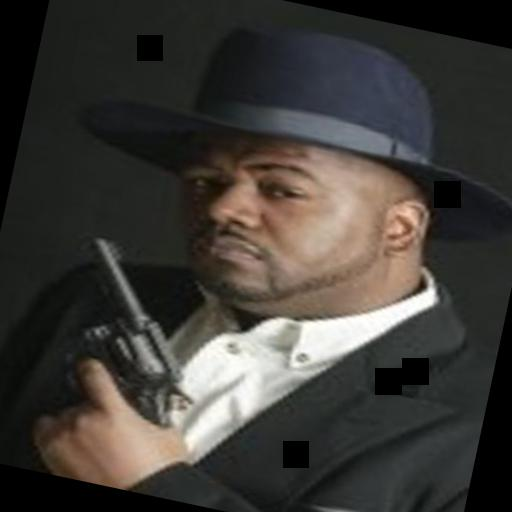Handgun: (26, 218, 232, 444)
